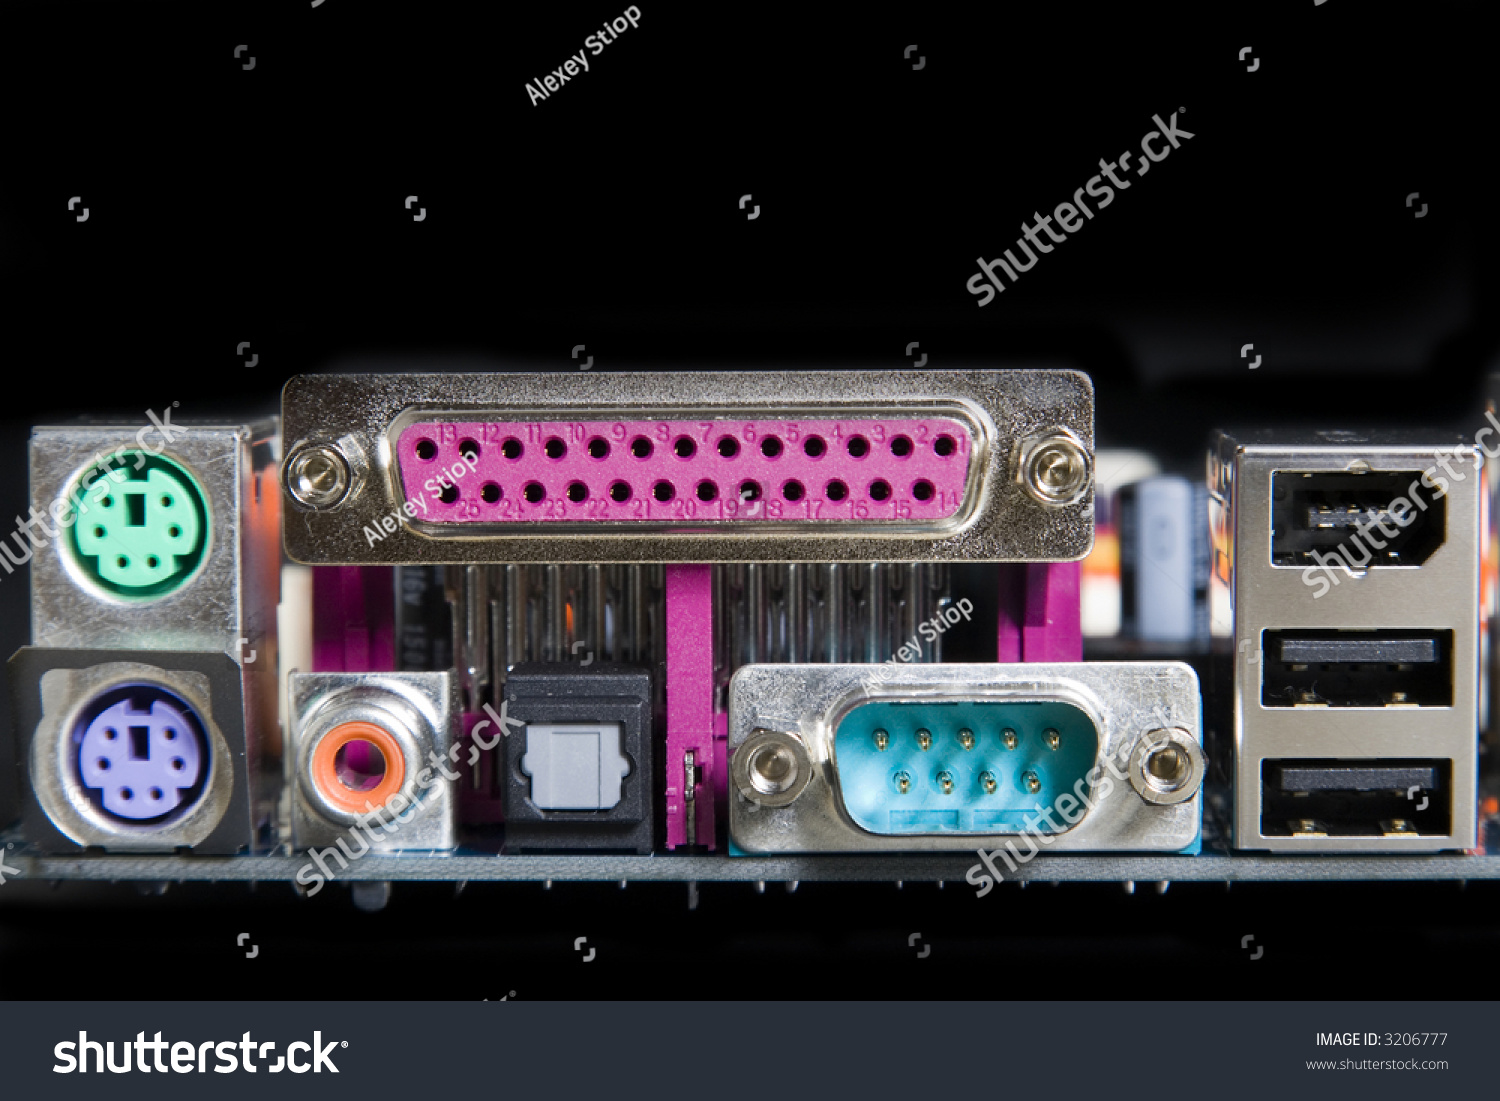USB: (1243, 747, 1479, 844), (1247, 619, 1469, 717)
